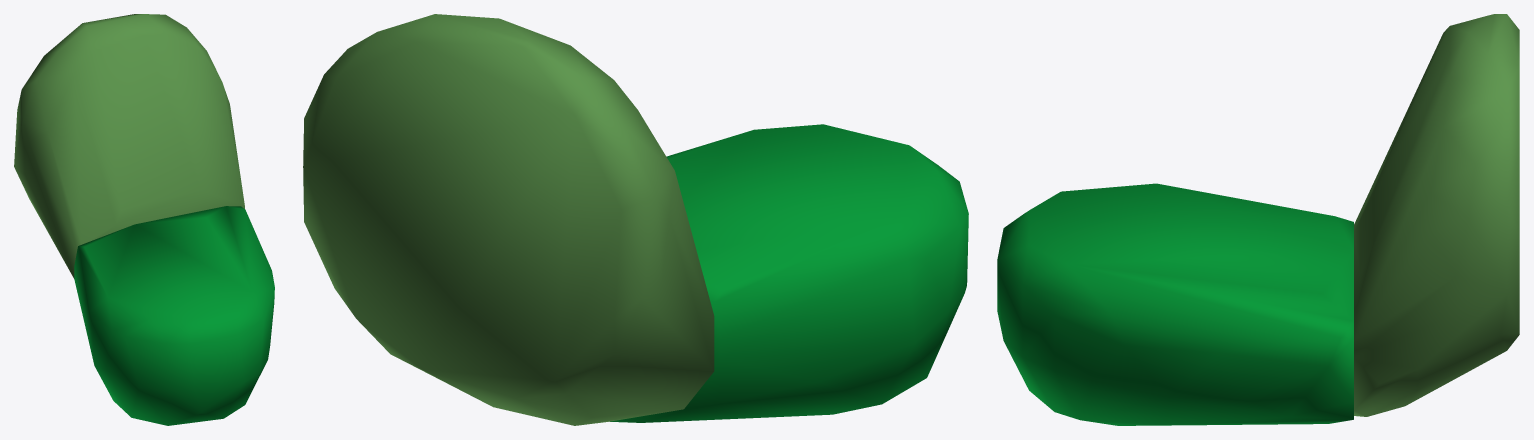
3 views of the same model, side by side, from view 1: azimuth 30°, elevation 25°; view 2: azimuth 150°, elevation 25°; view 3: azimuth 270°, elevation 25° (orthographic). The views are drawn at different scales.
Bounding box in the file's own units: 0.1013 × 0.1127 × 0.134.
